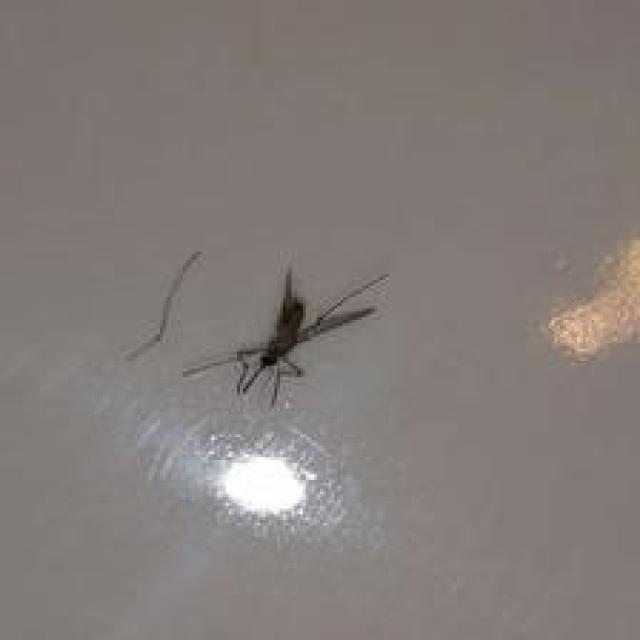Culex: (124, 250, 390, 410)
